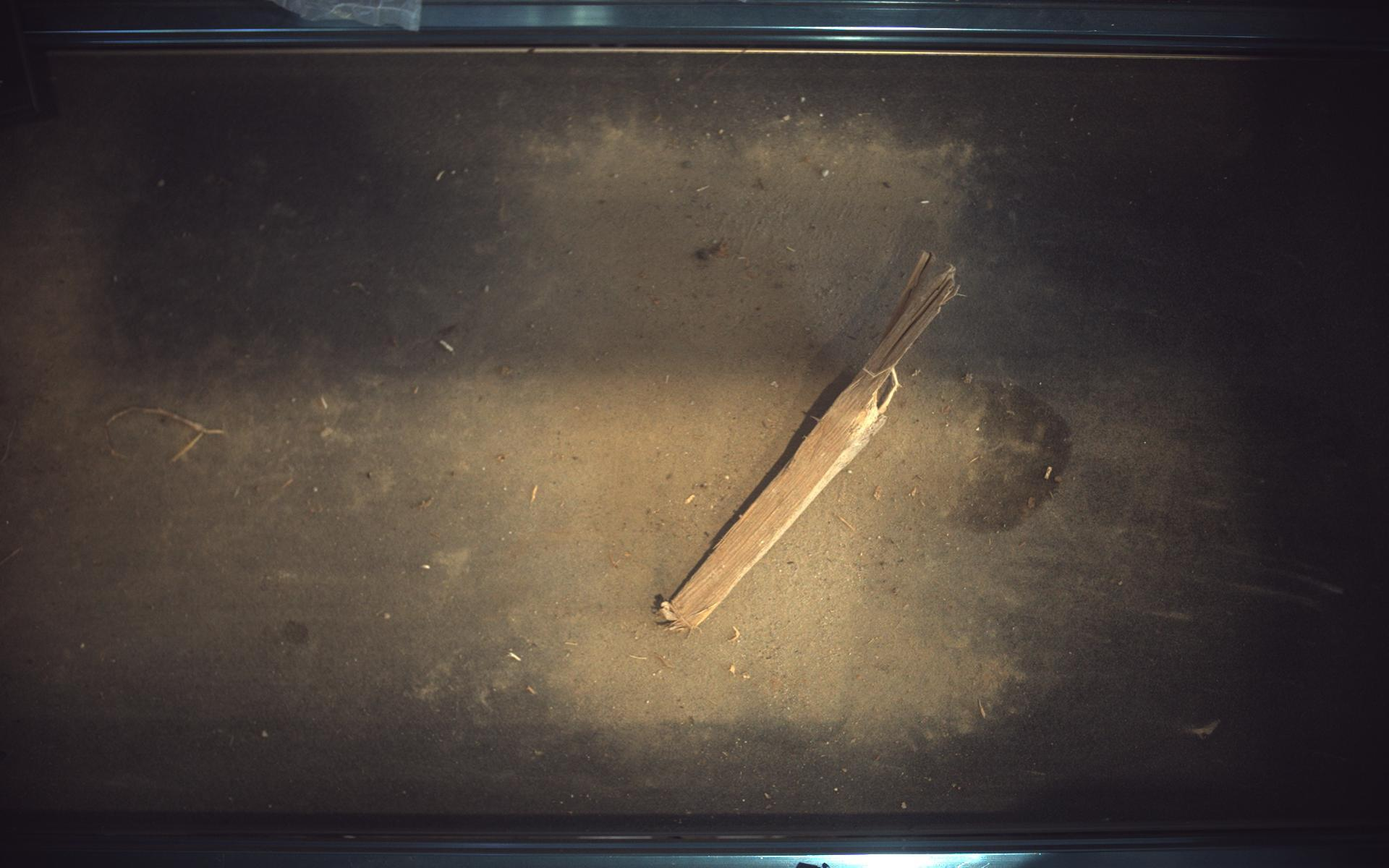wood: (659, 251, 960, 631)
